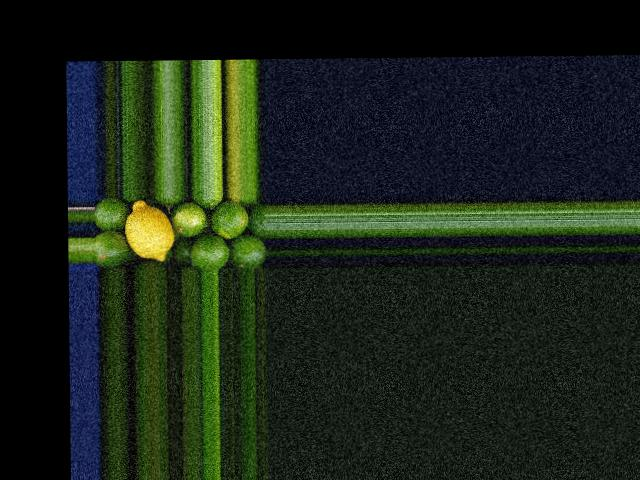lemon: (124, 200, 176, 262)
